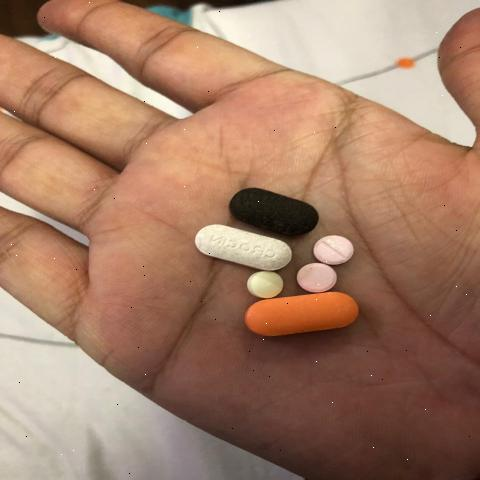Pill: (185, 226, 288, 270), (286, 265, 339, 294), (311, 233, 358, 262), (240, 269, 288, 297), (312, 236, 352, 263)
